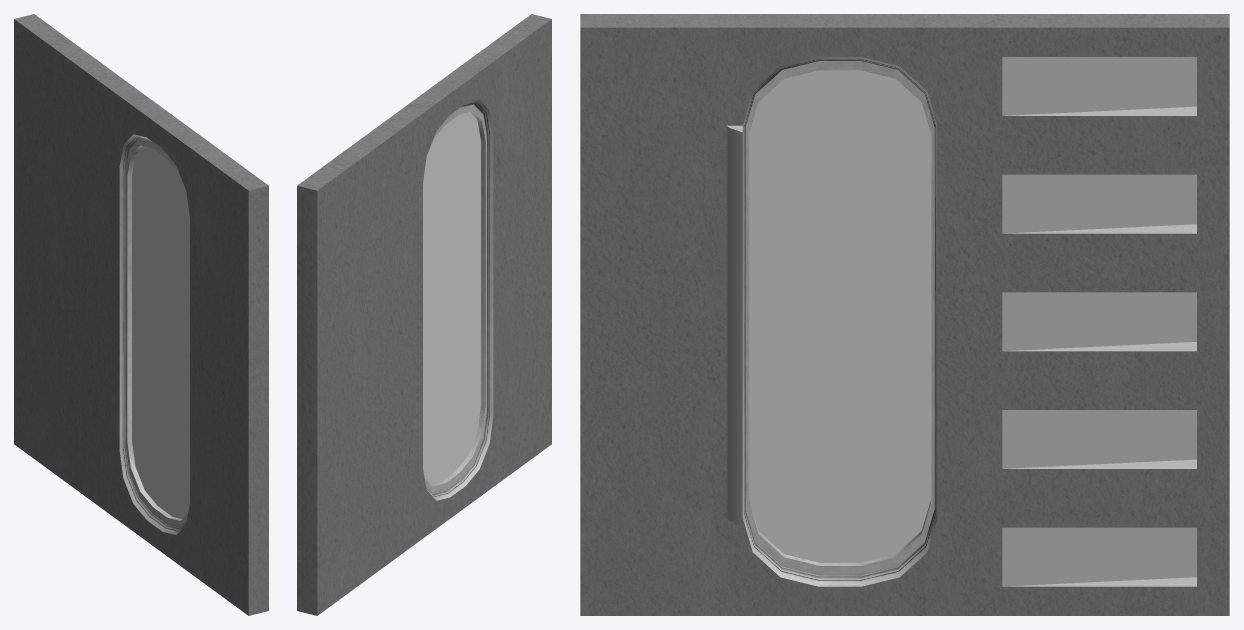
Rendered from Side_room_sidewall_4x4_windowed.fbx.
The picture shows the model from 3 angles, left to right: view 1: azimuth 30°, elevation 25°; view 2: azimuth 150°, elevation 25°; view 3: azimuth 270°, elevation 25°; orthographic projection. The views are drawn at different scales.
Visible parts, largest first — view 1: Side_room_sidewall_4x4_windowed, glass; view 2: Side_room_sidewall_4x4_windowed, glass; view 3: Side_room_sidewall_4x4_windowed, glass.
Part boxes in pixels (x1,y1,x2,y2): Side_room_sidewall_4x4_windowed: [14, 14, 268, 615]; glass: [132, 146, 189, 518]; Side_room_sidewall_4x4_windowed: [297, 14, 551, 615]; glass: [423, 112, 480, 484]; Side_room_sidewall_4x4_windowed: [580, 14, 1229, 615]; glass: [749, 70, 931, 562].
Size of the model in its own units: 0.3 by 4 by 4.
